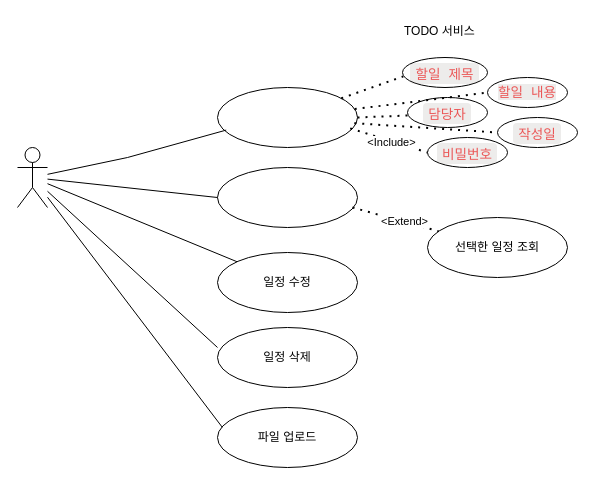
Some shapes in this 595 by 485 pixel diagram are drawn without their labels. Here are the shapes that lost their labels. From the top down, the centre of each, then its label:
At point 287,117: "일정 등록".
At point 32,177: "User".
At point 287,197: "일정 조회".
